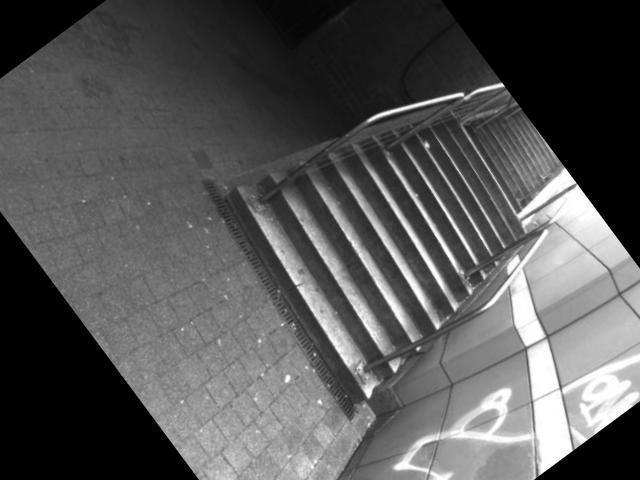Escaleras: (231, 83, 552, 397), (448, 71, 580, 213)
